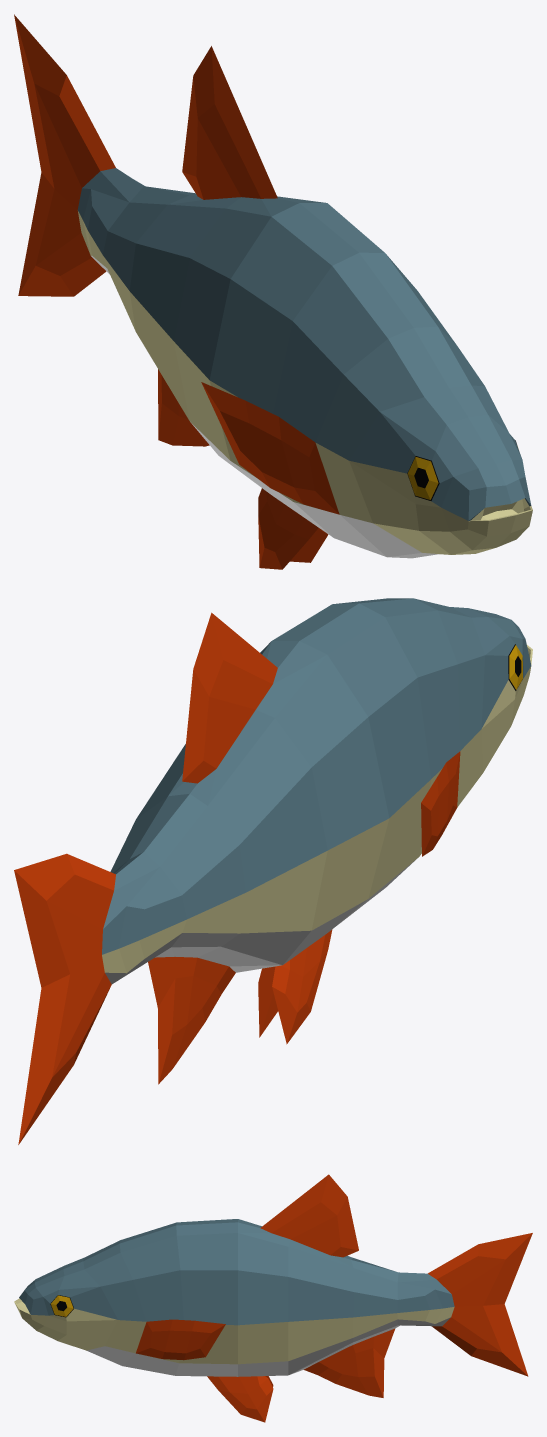
File: Fishessss.glb
3 renders of one model, top to bottom at view 1: azimuth 30°, elevation 25°; view 2: azimuth 150°, elevation 25°; view 3: azimuth 270°, elevation 25°, orthographic. The views are drawn at different scales.
Parts seen in each view (by area): view 1: Raude-col; view 2: Raude-col; view 3: Raude-col.
Boxes of the visible parts, left/top/right/bottom form: Raude-col: left=14, top=14, right=532, bottom=569; Raude-col: left=14, top=598, right=532, bottom=1144; Raude-col: left=14, top=1174, right=532, bottom=1422.
Bounding box in the file's own units: 0.073 × 0.1502 × 0.2886.
